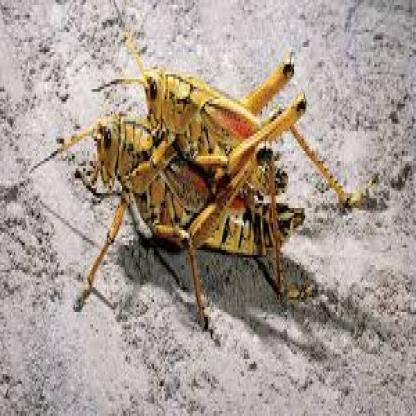grasshopper: (68, 104, 304, 324), (120, 26, 347, 200)
